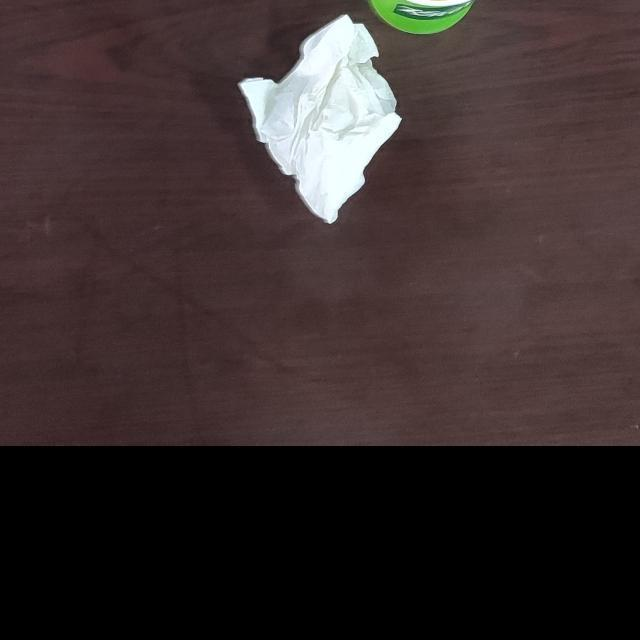kitchen paper: (236, 9, 404, 230)
